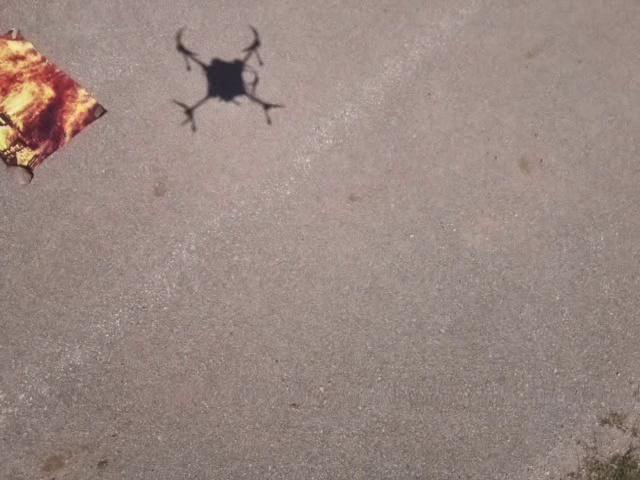fire-poster: (0, 26, 109, 186)
